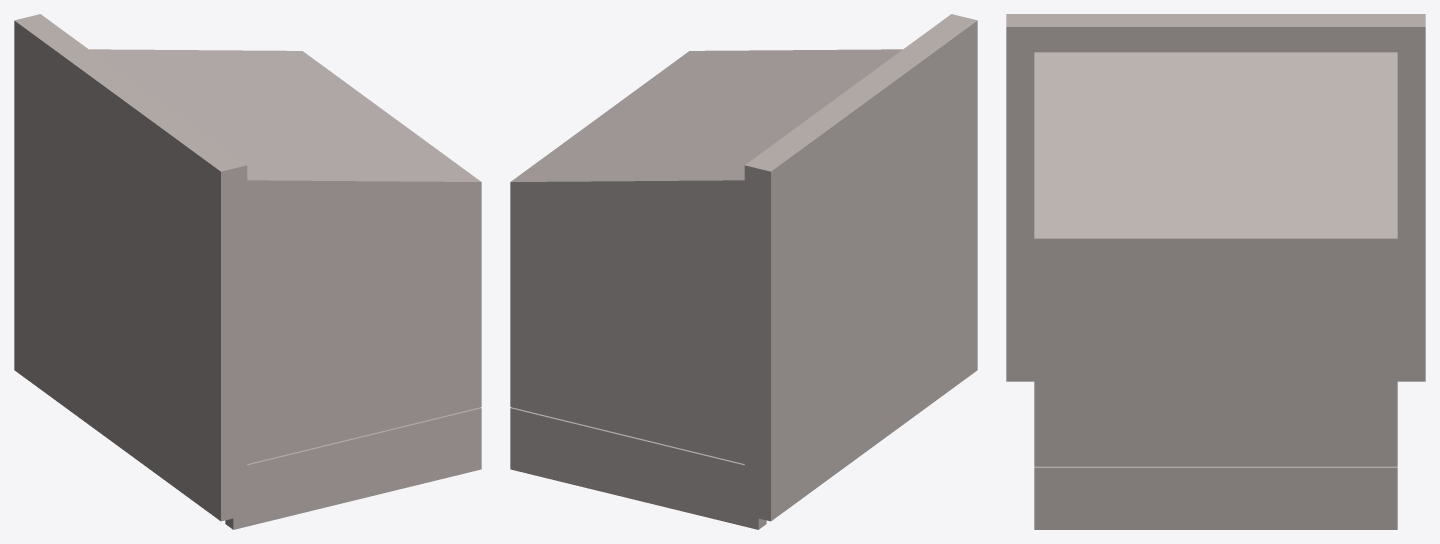
The model's file is SM_Fixture_RangeHood_R_01.gltf.
3 views of the same model, side by side, from view 1: azimuth 30°, elevation 25°; view 2: azimuth 150°, elevation 25°; view 3: azimuth 270°, elevation 25° (orthographic).
Visible parts, largest first — view 1: SM_Fixture_RangeHood_R_01; view 2: SM_Fixture_RangeHood_R_01; view 3: SM_Fixture_RangeHood_R_01.
Boxes of the visible parts, x1=… form: SM_Fixture_RangeHood_R_01: x1=14, y1=14, x2=481, y2=529; SM_Fixture_RangeHood_R_01: x1=510, y1=14, x2=977, y2=529; SM_Fixture_RangeHood_R_01: x1=1006, y1=14, x2=1425, y2=529.
Size of the model in its own units: 0.23 by 0.3 by 0.3.
Materials: 1 (1 with a texture image).
